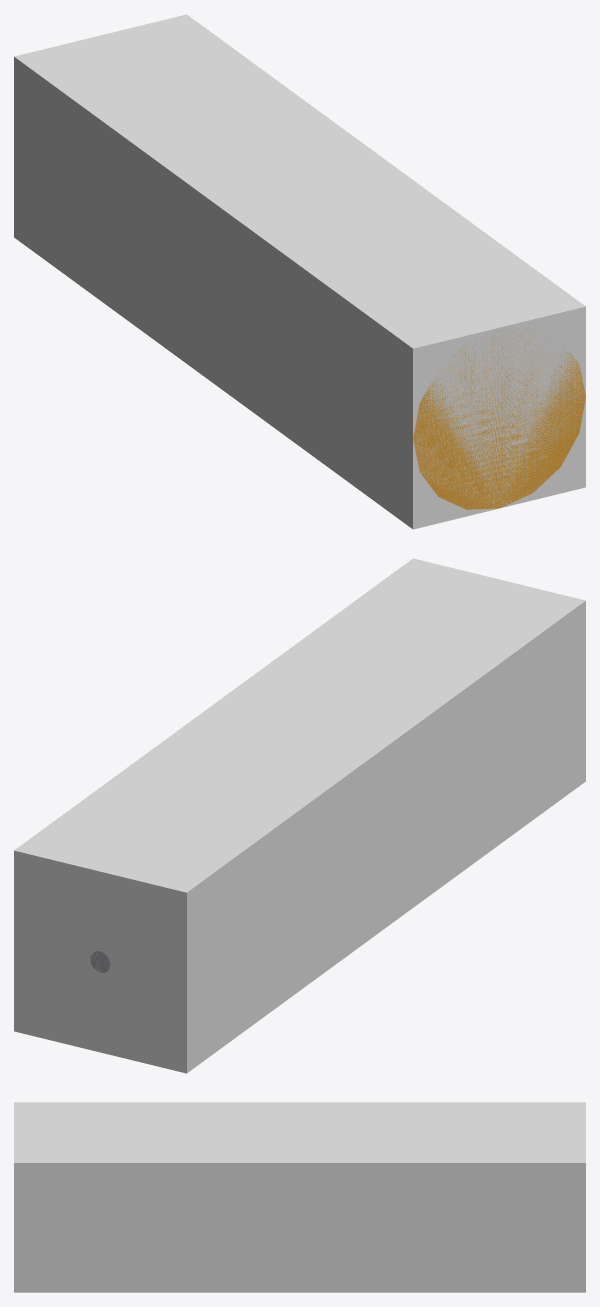
Rendered from he_shell_76.fbx.
The picture shows the model from 3 angles, top to bottom: view 1: azimuth 30°, elevation 25°; view 2: azimuth 150°, elevation 25°; view 3: azimuth 270°, elevation 25°; orthographic projection. The views are drawn at different scales.
Parts seen in each view (by area): view 1: Cube, Case; view 2: Cube; view 3: Cube.
Boxes of the visible parts, x1=… form: Cube: x1=14, y1=14, x2=585, y2=529; Case: x1=413, y1=327, x2=585, y2=509; Cube: x1=14, y1=558, x2=585, y2=1073; Cube: x1=14, y1=1102, x2=585, y2=1292.
Bounding box in the file's own units: 100 × 100 × 400.
